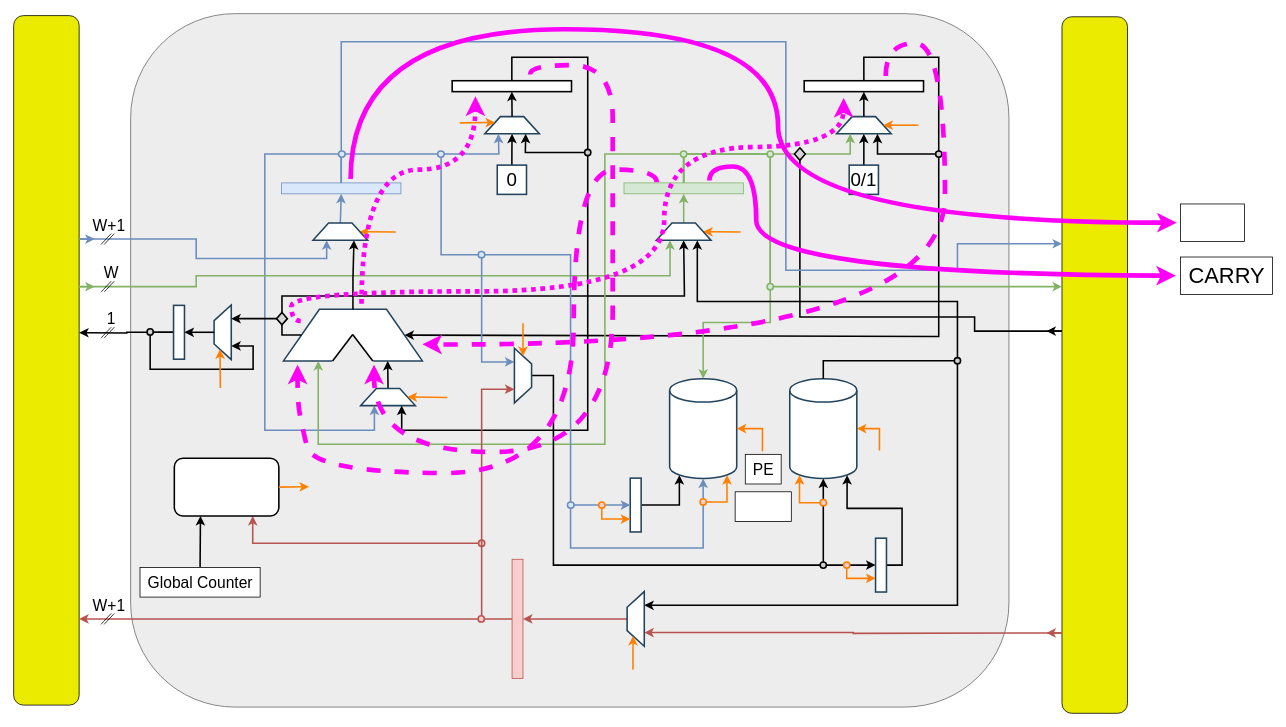
Image size: 1286x727. Some labels were removed from this diagram. Here are the shapes that lost their labels. From the top down, the box of each, then its label:
(1180, 203, 1244, 241): SUM
(668, 378, 737, 479): TCM Write Port
(789, 378, 857, 479): TCM Read Port
(173, 457, 279, 516): Local Controller
(734, 491, 791, 521): W/RE
